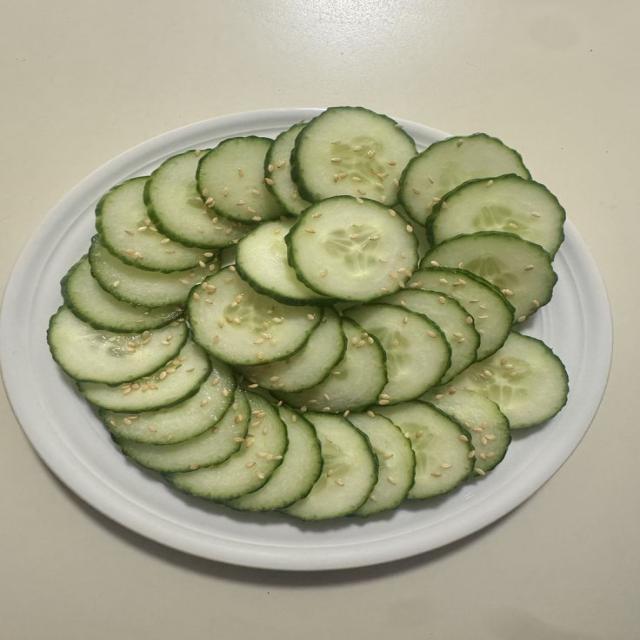cucumber sliced: (287, 196, 418, 301), (188, 266, 321, 365), (167, 394, 287, 501), (292, 107, 416, 206), (421, 232, 557, 322), (400, 134, 530, 225), (100, 359, 235, 444), (449, 332, 568, 428), (47, 306, 187, 386), (427, 175, 565, 255), (96, 177, 210, 272), (344, 304, 451, 405), (273, 318, 387, 412), (114, 394, 250, 472), (407, 264, 513, 359), (144, 151, 247, 247), (227, 407, 322, 510), (285, 414, 377, 520), (375, 401, 474, 499), (78, 340, 211, 412), (380, 289, 479, 383), (237, 308, 346, 392), (88, 237, 217, 307), (61, 257, 181, 332), (236, 219, 334, 305), (423, 388, 511, 474), (197, 136, 282, 224), (348, 413, 415, 516), (265, 122, 311, 215)
